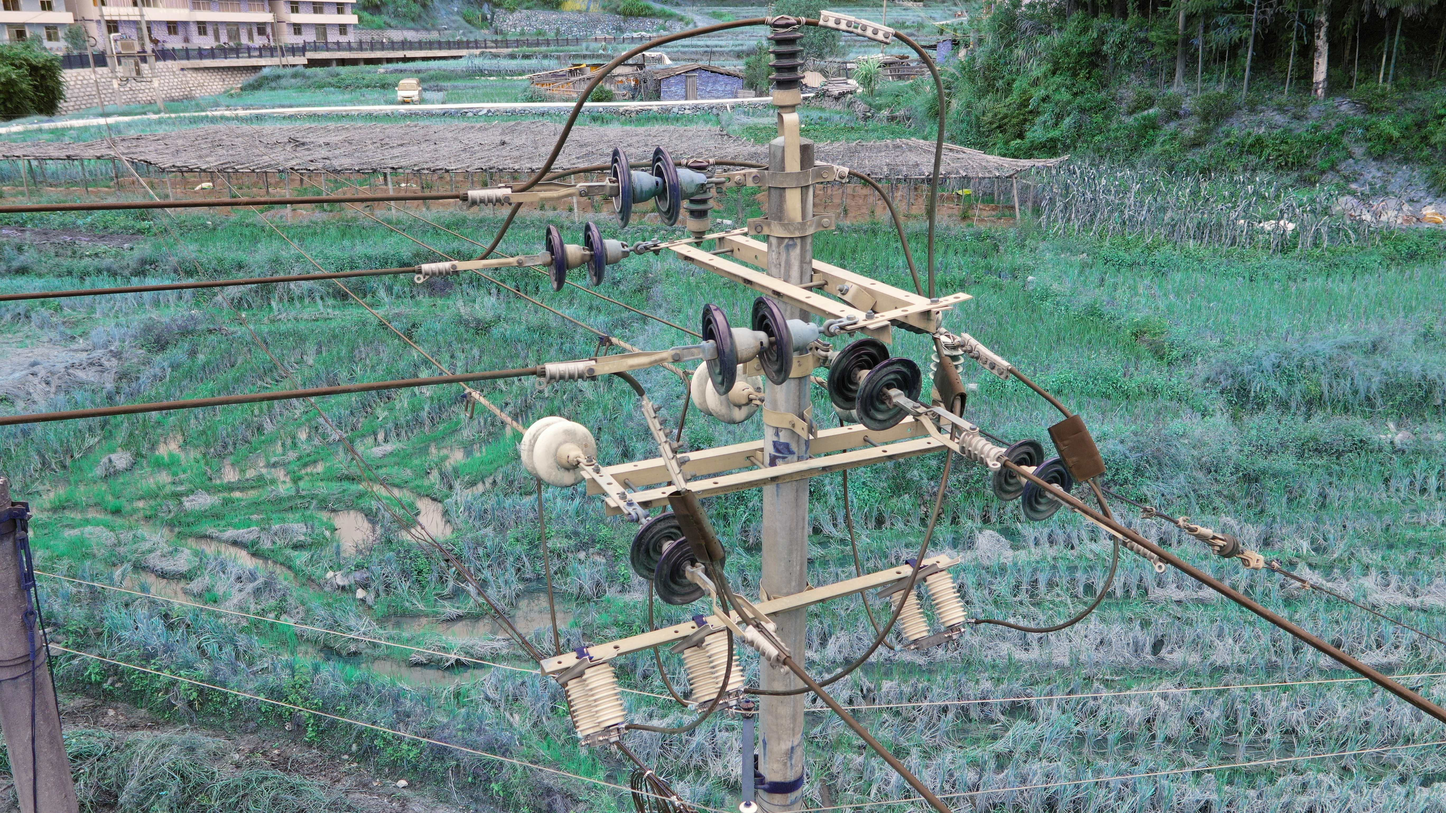severe_soiling_no_discharge_whole: (698, 290, 820, 397), (826, 339, 925, 431), (629, 511, 725, 605), (608, 144, 709, 230), (991, 438, 1074, 520), (520, 415, 599, 488), (688, 359, 766, 425), (766, 17, 808, 115), (679, 157, 715, 239)
